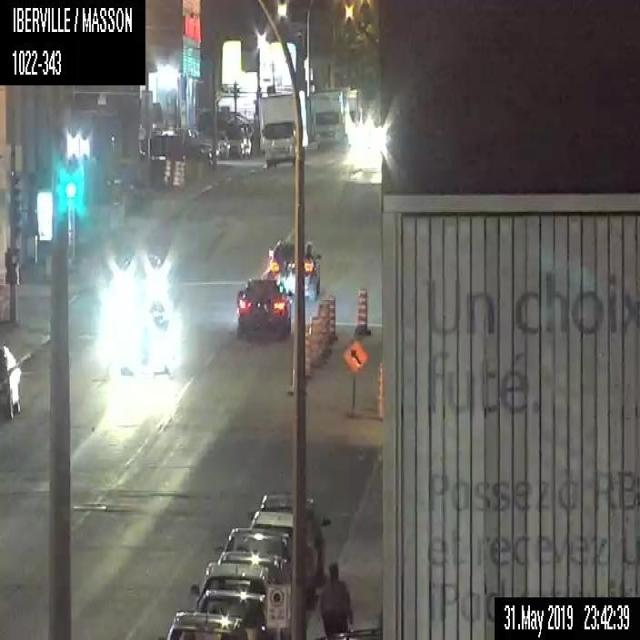construction: (340, 336, 369, 412), (354, 283, 371, 333), (318, 301, 328, 349), (311, 316, 321, 364), (304, 330, 314, 377), (326, 293, 336, 340), (376, 360, 382, 422), (172, 158, 180, 188), (163, 157, 171, 186), (178, 158, 185, 188)
pedestrian: (321, 564, 353, 639)
vehicle: (247, 489, 330, 585), (247, 508, 314, 608), (189, 560, 281, 614), (194, 588, 272, 638), (263, 241, 320, 304), (235, 280, 291, 337), (258, 91, 298, 168), (216, 526, 289, 565), (308, 89, 346, 155), (215, 550, 288, 582), (165, 613, 244, 639), (0, 344, 21, 416)
